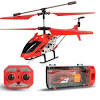maybay_dansu: (6, 6, 96, 61)
